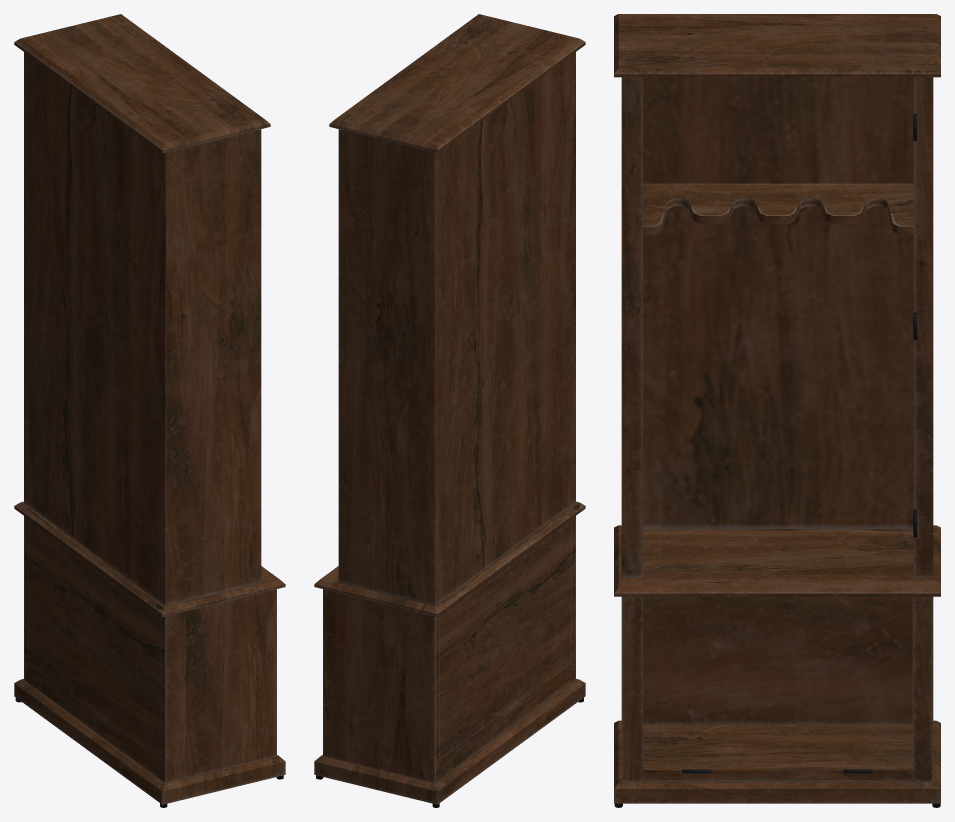
The model's file is SM_RifleCabinetB.FBX.
The picture shows the model from 3 angles, left to right: view 1: azimuth 30°, elevation 25°; view 2: azimuth 150°, elevation 25°; view 3: azimuth 270°, elevation 25°; orthographic projection. The views are drawn at different scales.
Visible parts, largest first — view 1: SM_RifleCabinetB; view 2: SM_RifleCabinetB; view 3: SM_RifleCabinetB.
Boxes of the visible parts, left/top/right/bottom form: SM_RifleCabinetB: left=14, top=14, right=285, bottom=807; SM_RifleCabinetB: left=314, top=14, right=585, bottom=807; SM_RifleCabinetB: left=614, top=14, right=940, bottom=807.
Size of the model in its own units: 35.06 by 180 by 73.02.
